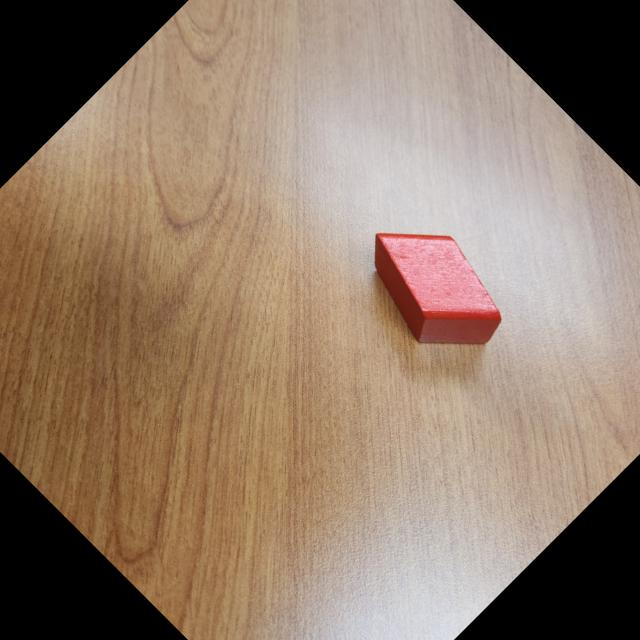red: (340, 196, 521, 378)
